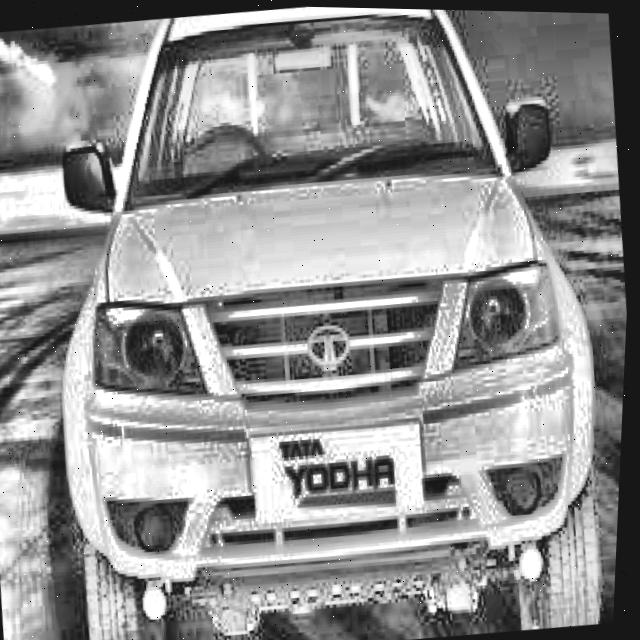light_vehicle: (20, 1, 640, 640)
